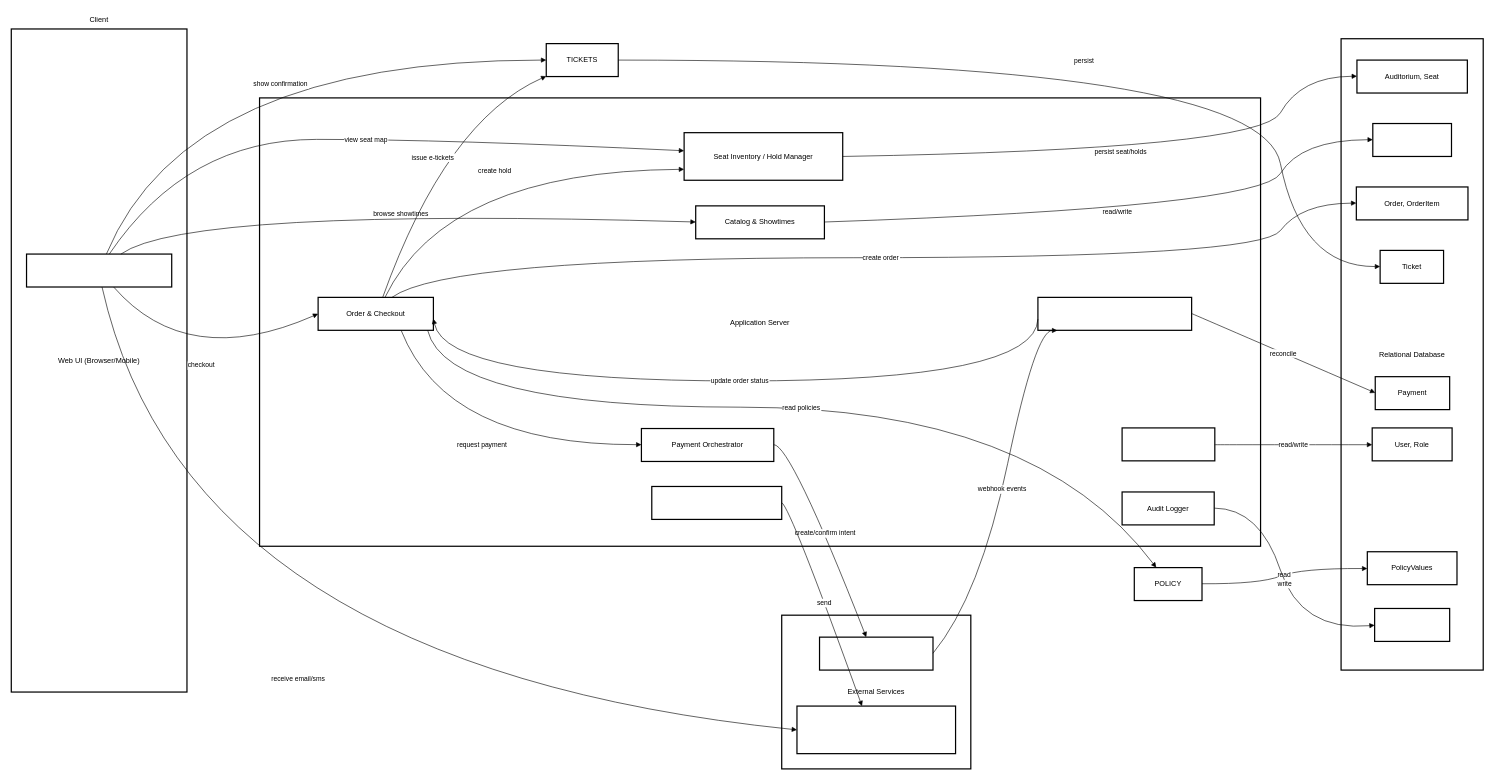
Some shapes in this 1494 by 780 pixel diagram are drawn without their labels. Here are the shapes that lost their labels. From the top down, the centre of each, then its label:
At pixel 1412 140: "Screening".
At pixel 99 270: "SPA / Server-rendered UI".
At pixel 1114 313: "Payment Webhook Handler".
At pixel 1168 444: "Auth & RBAC".
At pixel 716 503: "Notification Producer".
At pixel 1412 625: "AuditLog".
At pixel 876 653: "Payment Provider".
At pixel 876 729: "Notification Service (Email/SMS)".
